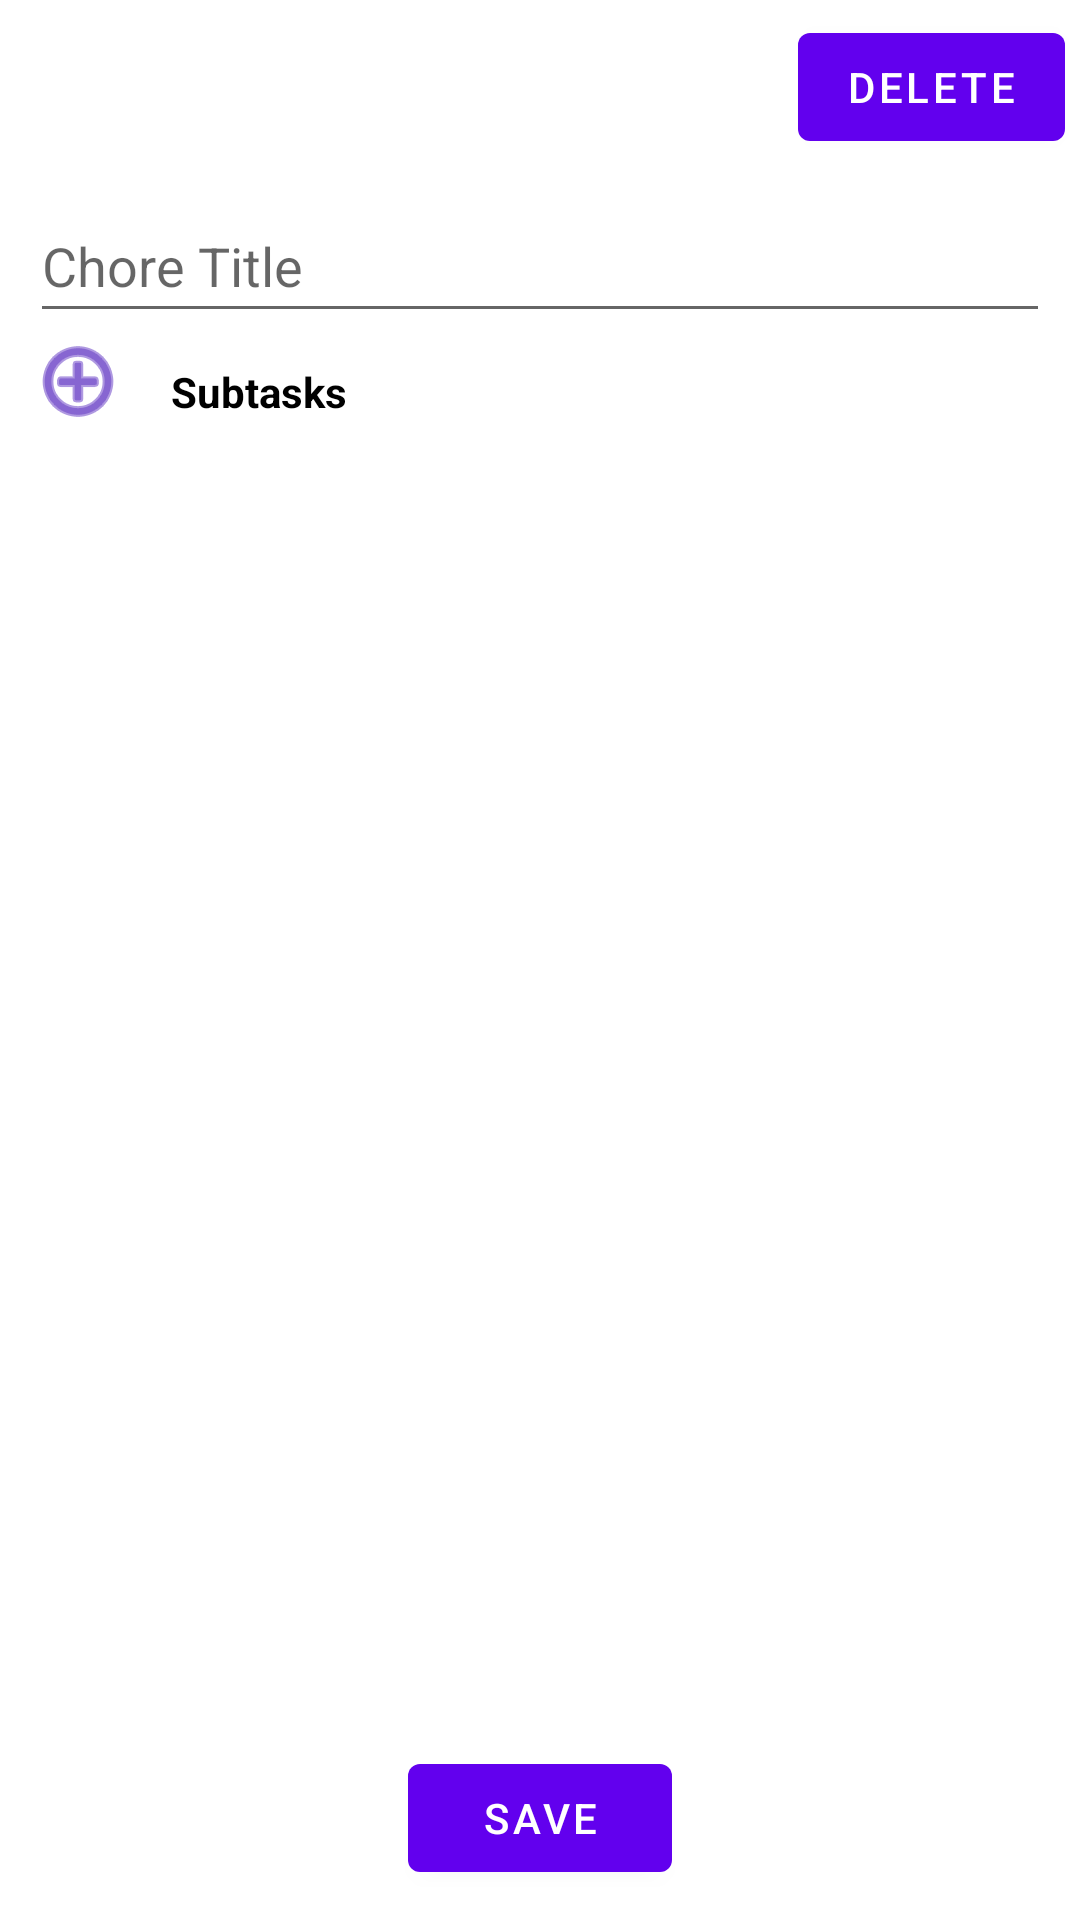

Where to tap for icons on this 1080×1920 app screen, as (x=x, y=y):
Add a new Subtask: (x=78, y=381)
